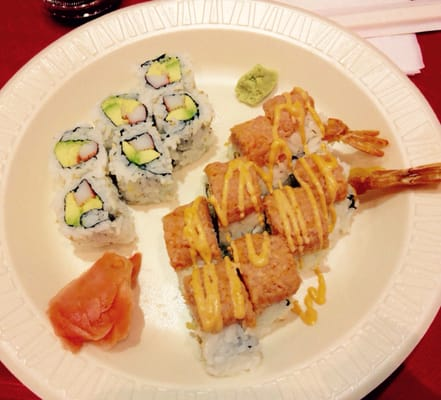pizza: (42, 0, 122, 25)
